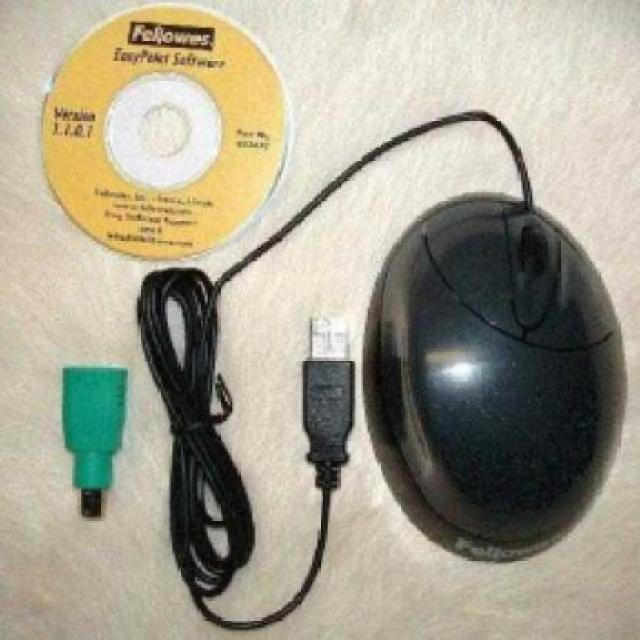mause: (352, 148, 623, 603)
